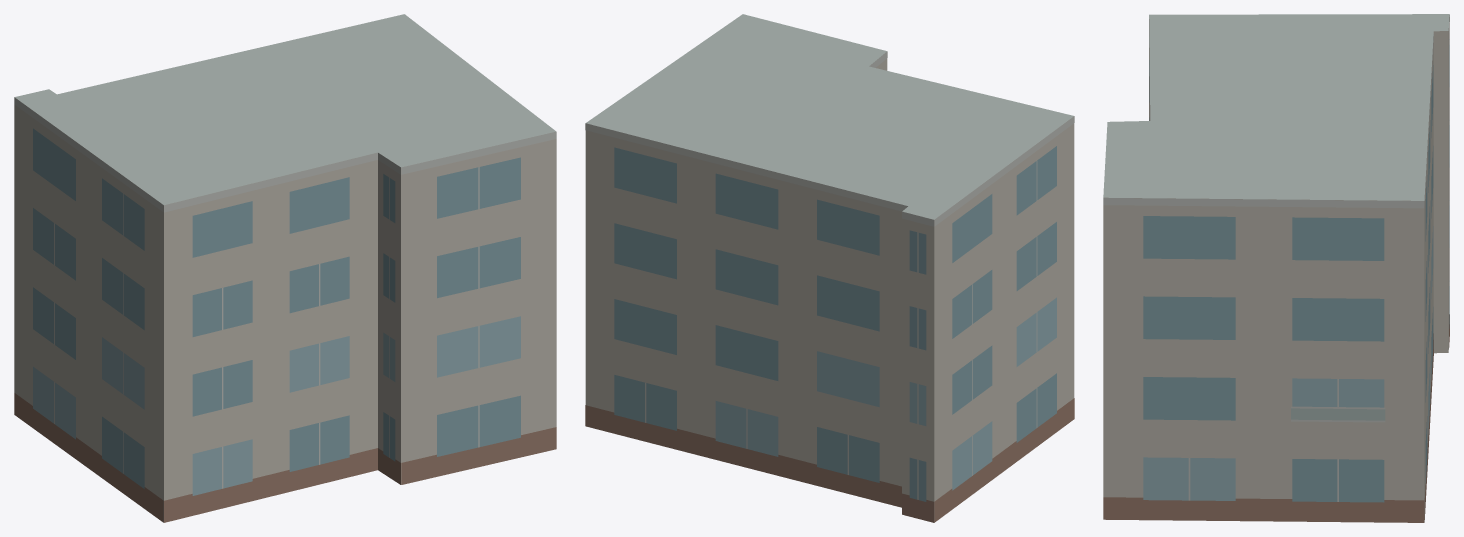
Rendered from survey-upis-32957238.glb.
The picture shows the model from 3 angles, left to right: view 1: azimuth 30°, elevation 25°; view 2: azimuth 150°, elevation 25°; view 3: azimuth 270°, elevation 25°; orthographic projection. The views are drawn at different scales.
Parts seen in each view (by area): view 1: survey-upis-32957238.tmp; view 2: survey-upis-32957238.tmp; view 3: survey-upis-32957238.tmp.
Part boxes in pixels (left/top/right/bottom): survey-upis-32957238.tmp: left=14, top=14, right=556, bottom=522; survey-upis-32957238.tmp: left=585, top=14, right=1074, bottom=522; survey-upis-32957238.tmp: left=1103, top=14, right=1449, bottom=522.
Bounding box in the file's own units: 13.15 × 10.55 × 10.3.
